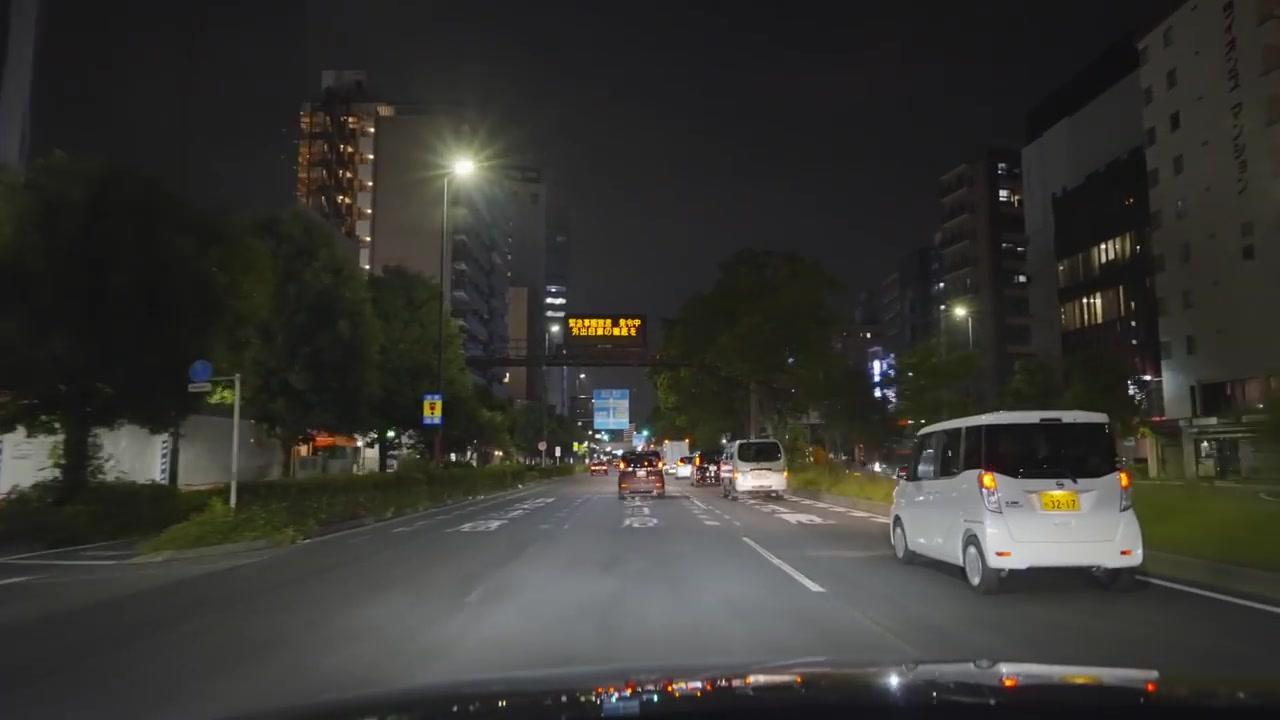bus: (887, 409, 1146, 593), (719, 438, 789, 500)
car: (888, 410, 1145, 594), (718, 438, 788, 501), (618, 462, 665, 500), (673, 461, 693, 479), (589, 458, 608, 474)
truck: (718, 438, 788, 500)
